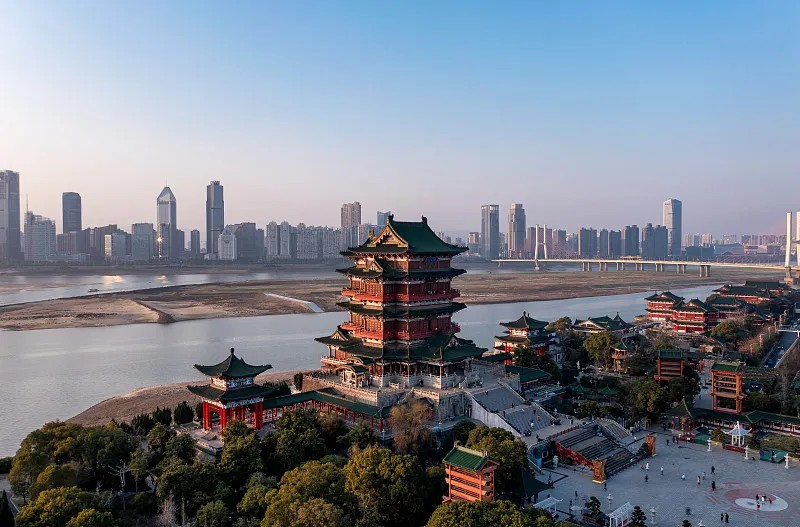Teng: (314, 214, 489, 389)
